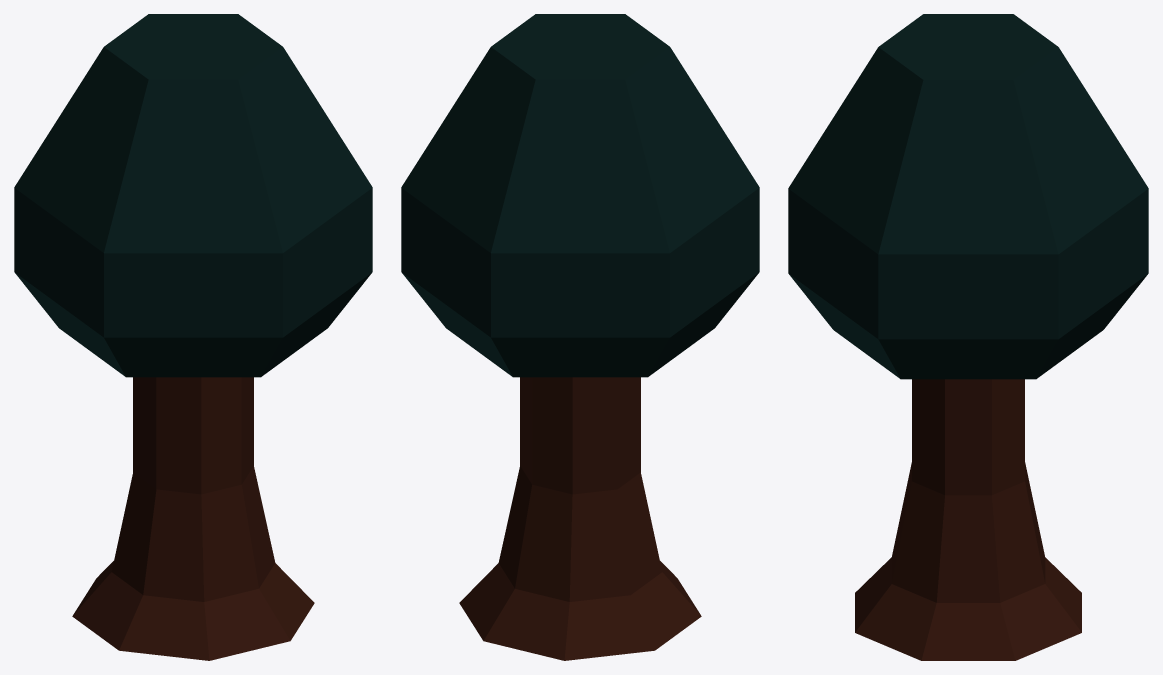
Rendered from Tree2.fbx.
3 views of the same model, side by side, from view 1: azimuth 30°, elevation 25°; view 2: azimuth 150°, elevation 25°; view 3: azimuth 270°, elevation 25° (orthographic).
Visible parts, largest first — view 1: mergedBlocks; view 2: mergedBlocks; view 3: mergedBlocks.
Boxes of the visible parts, x1,y1,x2,y2 form: mergedBlocks: (14, 14, 372, 660); mergedBlocks: (401, 14, 759, 660); mergedBlocks: (788, 14, 1148, 660).
Bounding box in the file's own units: 10 × 20 × 11.55.
